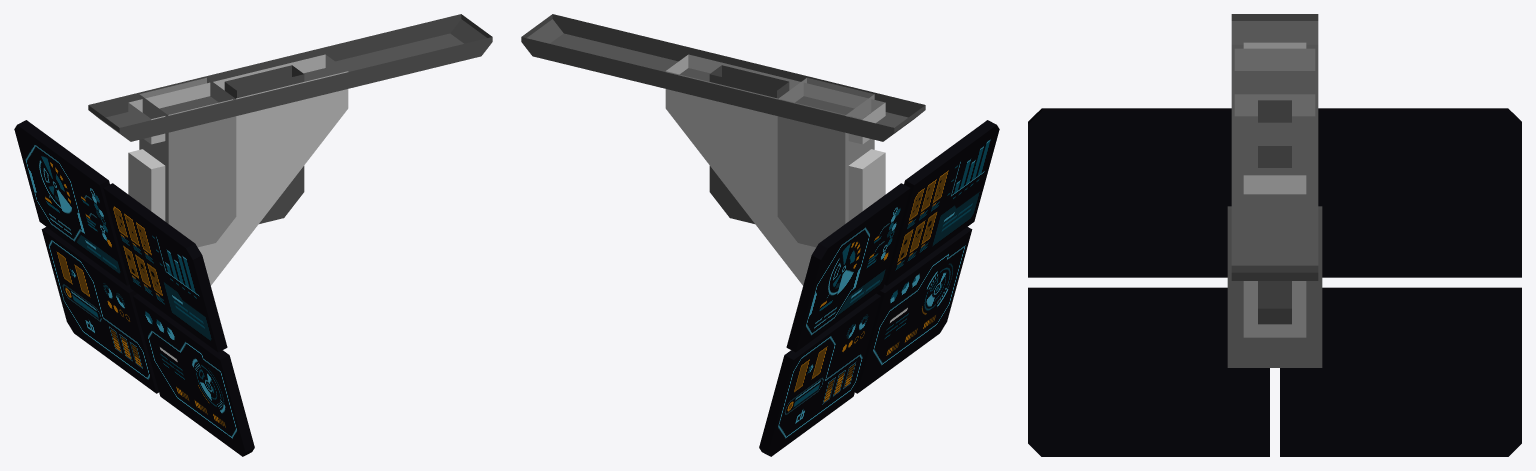
File: SM_Screens_1.fbx
The picture shows the model from 3 angles, left to right: view 1: azimuth 30°, elevation 25°; view 2: azimuth 150°, elevation 25°; view 3: azimuth 270°, elevation 25°; orthographic projection. The views are drawn at different scales.
Visible parts, largest first — view 1: SM_Screens_1; view 2: SM_Screens_1; view 3: SM_Screens_1.
Part boxes in pixels (x1=…): SM_Screens_1: x1=14, y1=14, x2=492, y2=456; SM_Screens_1: x1=521, y1=14, x2=999, y2=456; SM_Screens_1: x1=1028, y1=14, x2=1521, y2=456.
Size of the model in its own units: 210 by 156 by 173.
